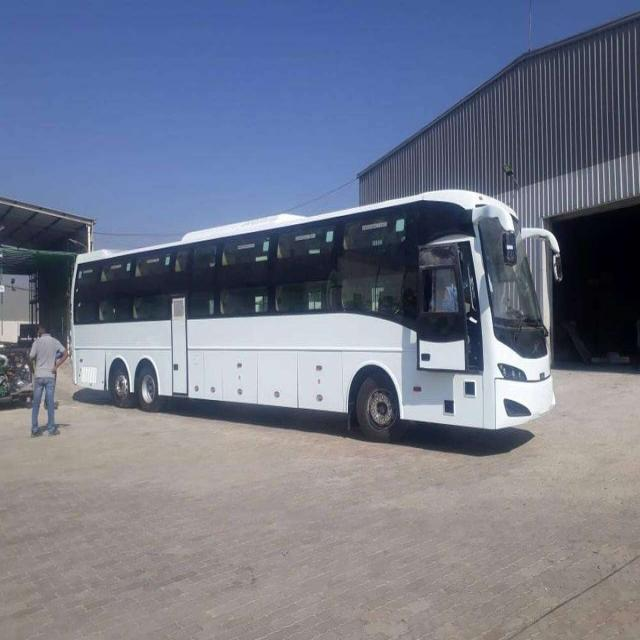bus: (71, 189, 560, 440)
